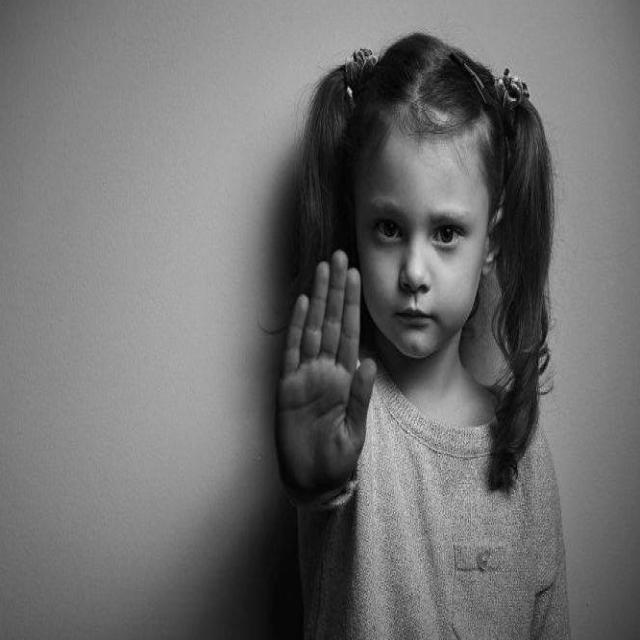stop: (270, 245, 381, 506)
